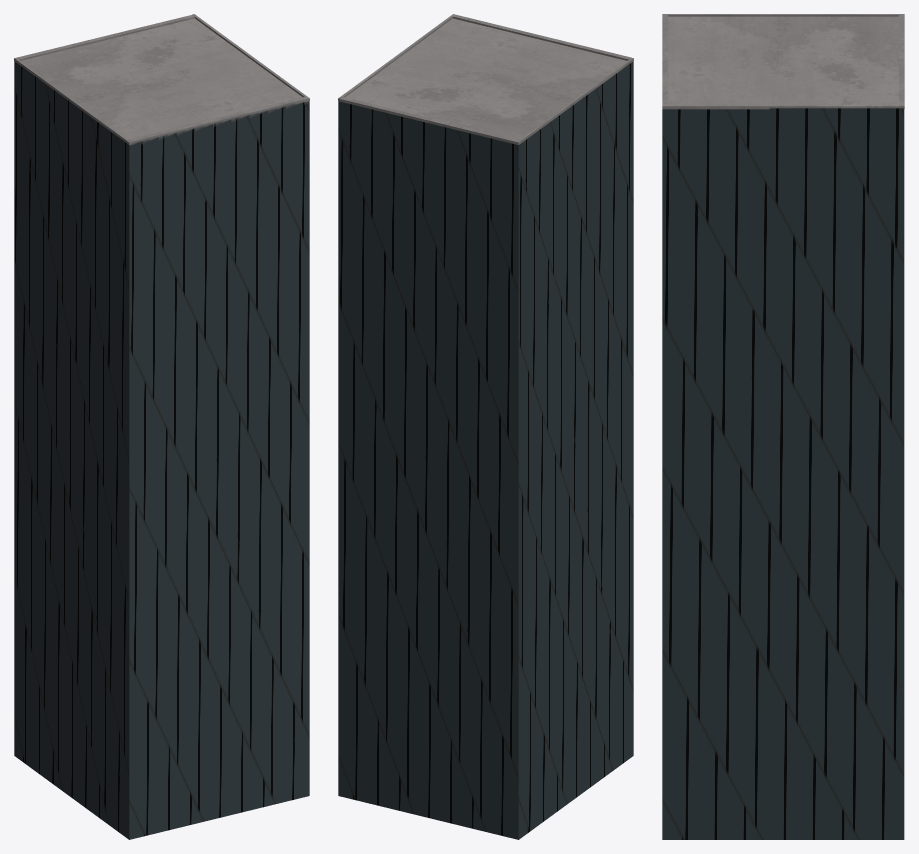
File: build14.fbx
3 renders of one model, left to right at view 1: azimuth 30°, elevation 25°; view 2: azimuth 150°, elevation 25°; view 3: azimuth 270°, elevation 25°, orthographic. The views are drawn at different scales.
Visible parts, largest first — view 1: Construction_Building; view 2: Construction_Building; view 3: Construction_Building.
Part boxes in pixels (left/top/right/bottom): Construction_Building: left=14, top=14, right=309, bottom=839; Construction_Building: left=338, top=14, right=633, bottom=839; Construction_Building: left=662, top=14, right=904, bottom=839.
Bounding box in the file's own units: 269 × 993 × 297.
Materials: 1 (1 with a texture image).
